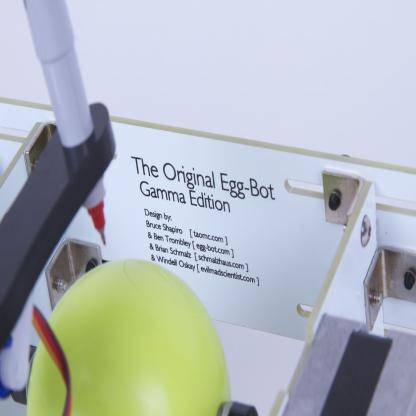Ball: (25, 255, 230, 416)
